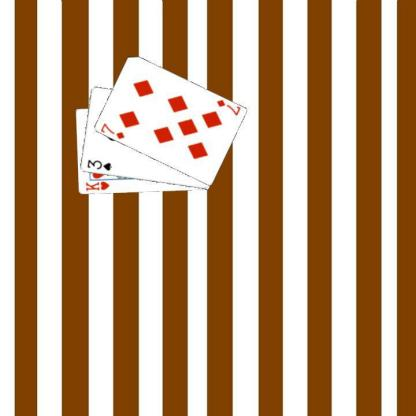3S: (84, 157, 113, 172)
7D: (98, 121, 126, 140), (214, 97, 241, 116)
KH: (84, 179, 110, 192)
